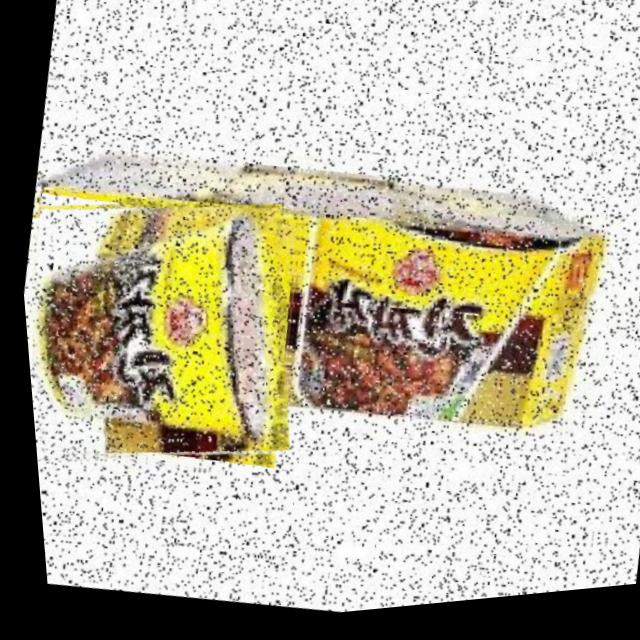Miscellaneous: (12, 168, 319, 501)
